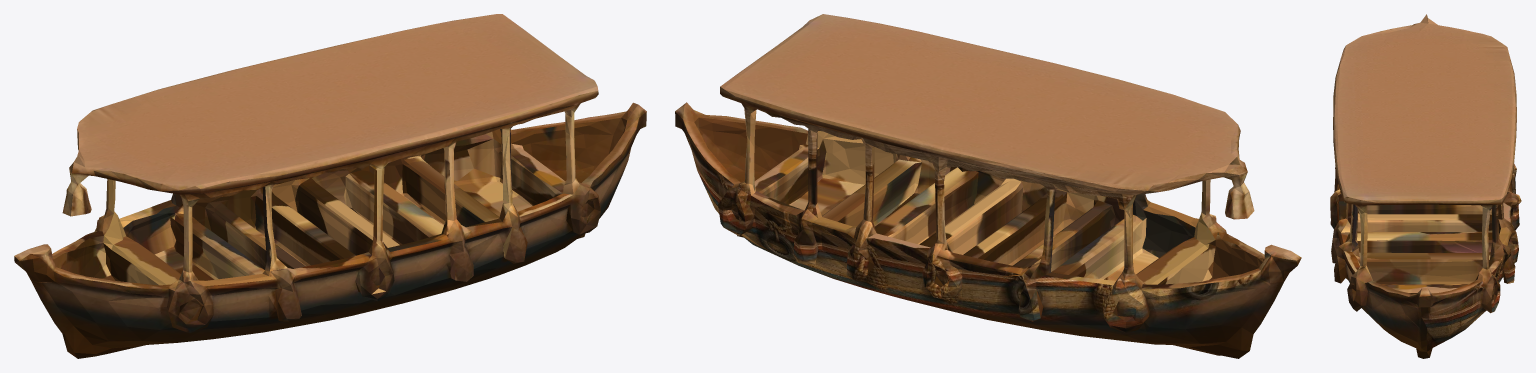
The model's file is ferry.glb.
3 views of the same model, side by side, from view 1: azimuth 30°, elevation 25°; view 2: azimuth 150°, elevation 25°; view 3: azimuth 270°, elevation 25° (orthographic). The views are drawn at different scales.
Parts seen in each view (by area): view 1: ferry; view 2: ferry; view 3: ferry.
Part boxes in pixels (x1,y1,x2,y2): ferry: [14, 14, 646, 358]; ferry: [675, 14, 1301, 358]; ferry: [1330, 14, 1521, 358].
Bounding box in the file's own units: 9 × 2.83 × 3.08.
Materials: 1 (1 with a texture image).
